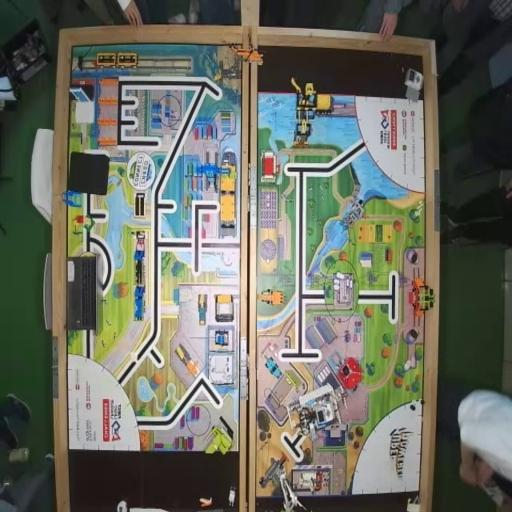lego_robot: (288, 382, 347, 443)
